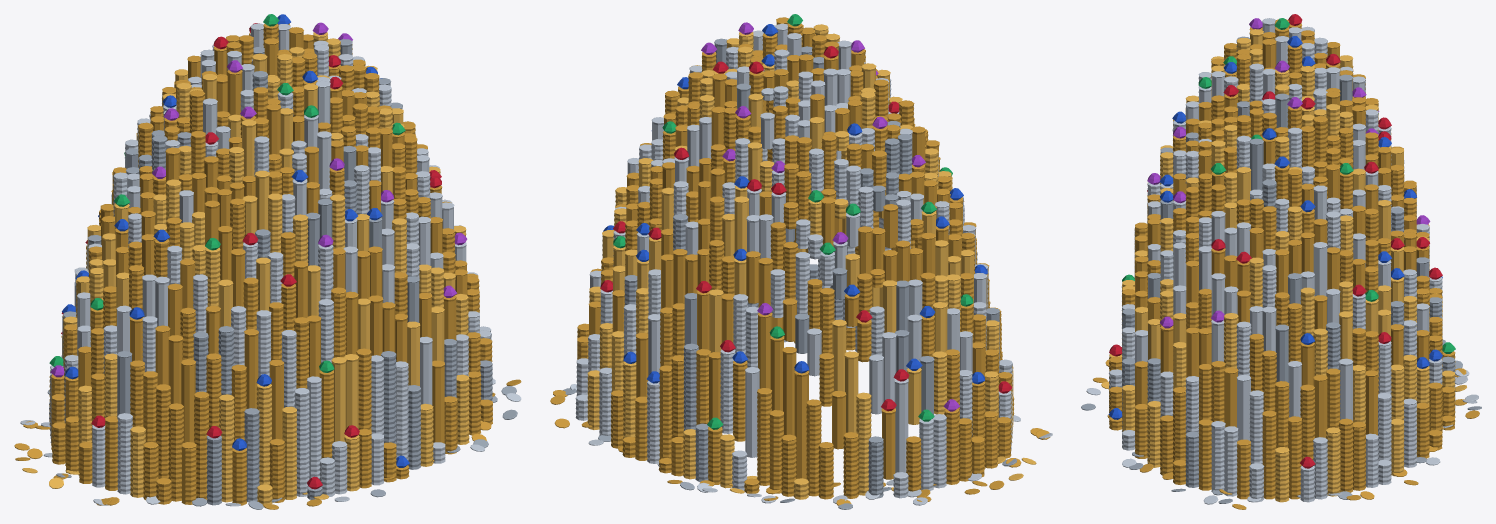
The model's file is PileLarge_Large.fbx.
3 views of the same model, side by side, from view 1: azimuth 30°, elevation 25°; view 2: azimuth 150°, elevation 25°; view 3: azimuth 270°, elevation 25° (orthographic). The views are drawn at different scales.
Parts seen in each view (by area): view 1: PileLarge_Large; view 2: PileLarge_Large; view 3: PileLarge_Large.
Part boxes in pixels (x1,y1,x2,y2): PileLarge_Large: [14, 14, 521, 509]; PileLarge_Large: [550, 14, 1052, 509]; PileLarge_Large: [1081, 14, 1481, 509].
Bounding box in the file's own units: 241 × 202 × 189.
